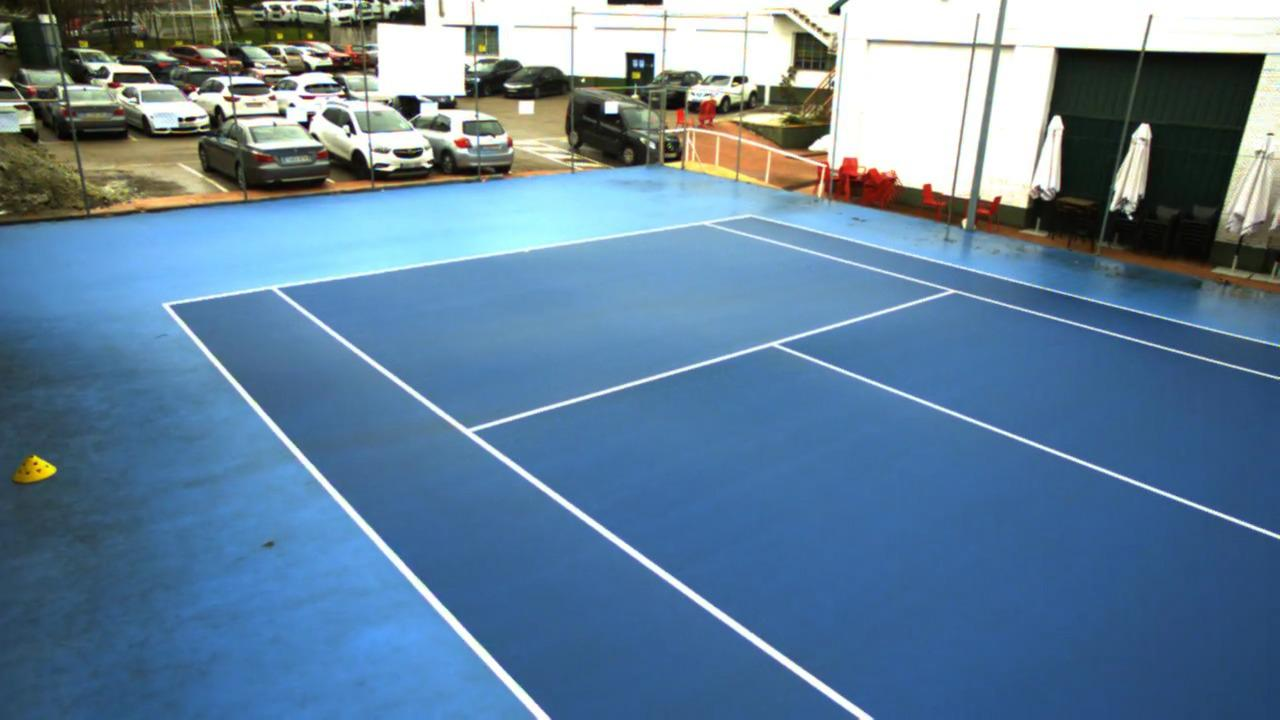cancha_tenis: (273, 222, 1280, 720)
point_f1: (265, 275, 290, 303)
point_f2: (693, 214, 722, 234)
point_fc1: (521, 244, 539, 262)
point_i1: (457, 419, 487, 453)
point_i2: (934, 279, 963, 304)
point_ic1: (765, 332, 791, 359)
